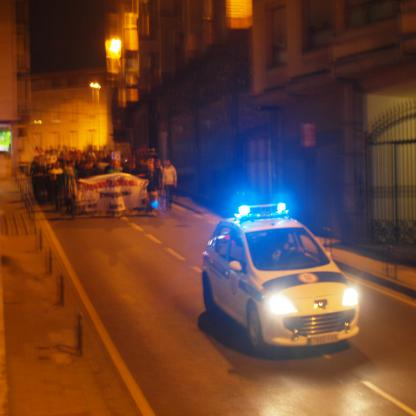Car: (199, 202, 360, 364)
